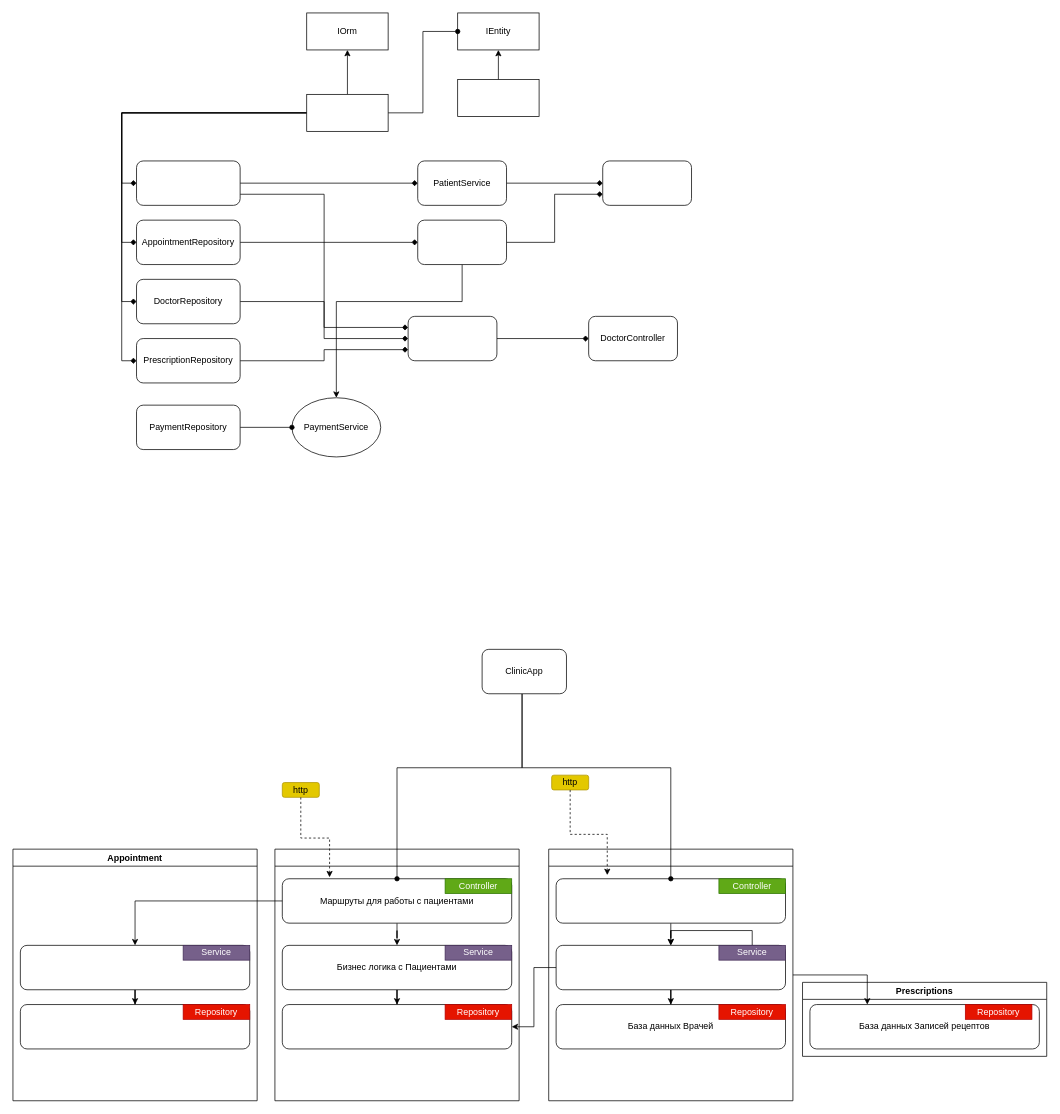
This 1060x1114 diagram has some shape labels left out. Each missing label, with the box of its shape:
AppointmentService: (417, 219, 507, 265)
Doctors: (548, 848, 793, 1101)
DoctorService: (407, 316, 497, 361)
PatientController: (602, 160, 692, 205)
PatientRepository: (136, 160, 240, 205)
patients: (274, 848, 519, 1101)
SqliteEntity: (457, 79, 539, 117)
SqliteOrm: (306, 94, 388, 131)
База данных Записей: (20, 1004, 250, 1049)
База данных пациетов: (282, 1004, 512, 1049)
Бизнес логика с Врачами: (555, 945, 786, 990)
Запись пациентов к врачам: (20, 945, 250, 990)
Маршруты для работы с Врачами: (555, 878, 786, 923)
